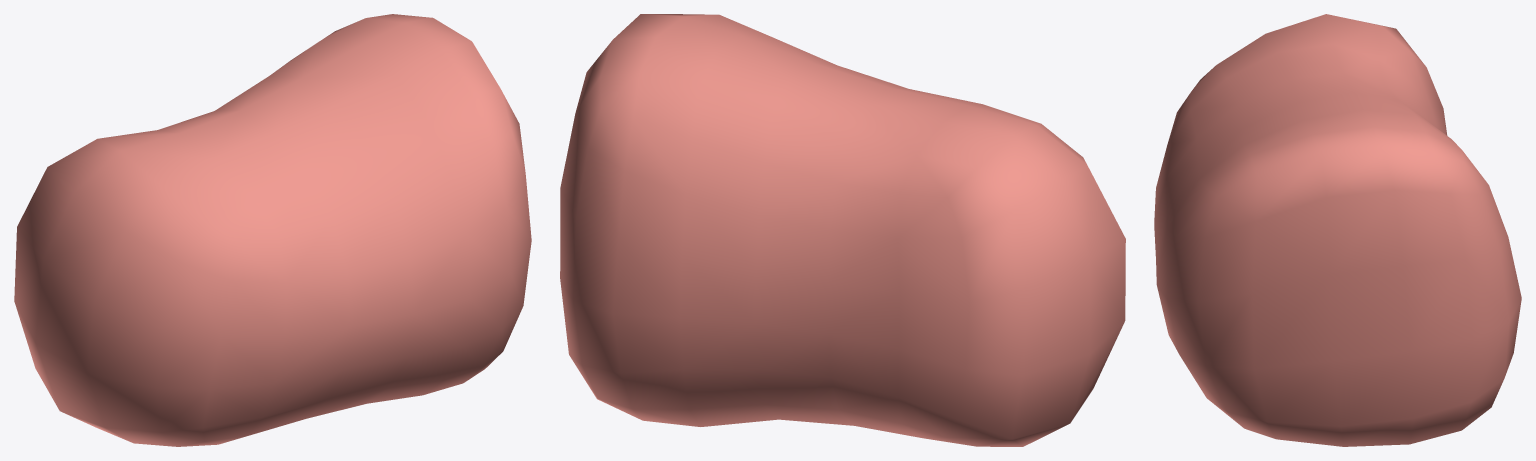
File: mixamo_humanoid_surface_rightHandPinky1.fbx
The picture shows the model from 3 angles, left to right: view 1: azimuth 30°, elevation 25°; view 2: azimuth 150°, elevation 25°; view 3: azimuth 270°, elevation 25°; orthographic projection. The views are drawn at different scales.
Parts seen in each view (by area): view 1: surface_RightHandPinky1; view 2: surface_RightHandPinky1; view 3: surface_RightHandPinky1.
Boxes of the visible parts, x1,y1,x2,y2 form: surface_RightHandPinky1: [14, 14, 531, 446]; surface_RightHandPinky1: [560, 14, 1125, 446]; surface_RightHandPinky1: [1154, 14, 1521, 446].
Size of the model in its own units: 3 by 2.1 by 2.17.
